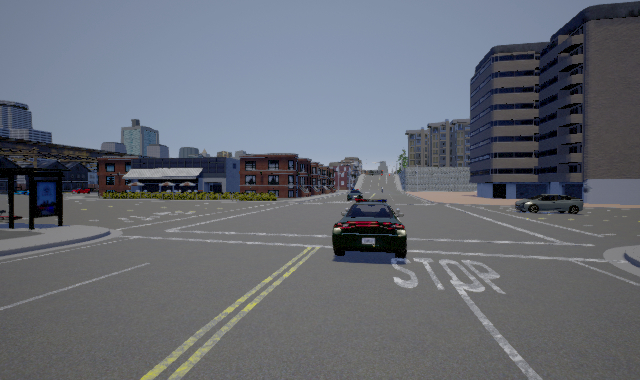vehicle: (332, 198, 407, 259), (515, 194, 584, 214), (346, 188, 364, 202)
